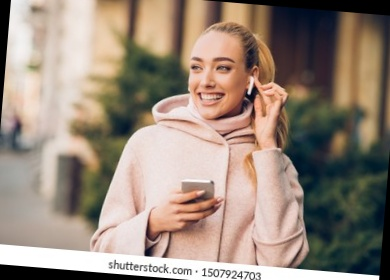earphone: (245, 65, 260, 95)
